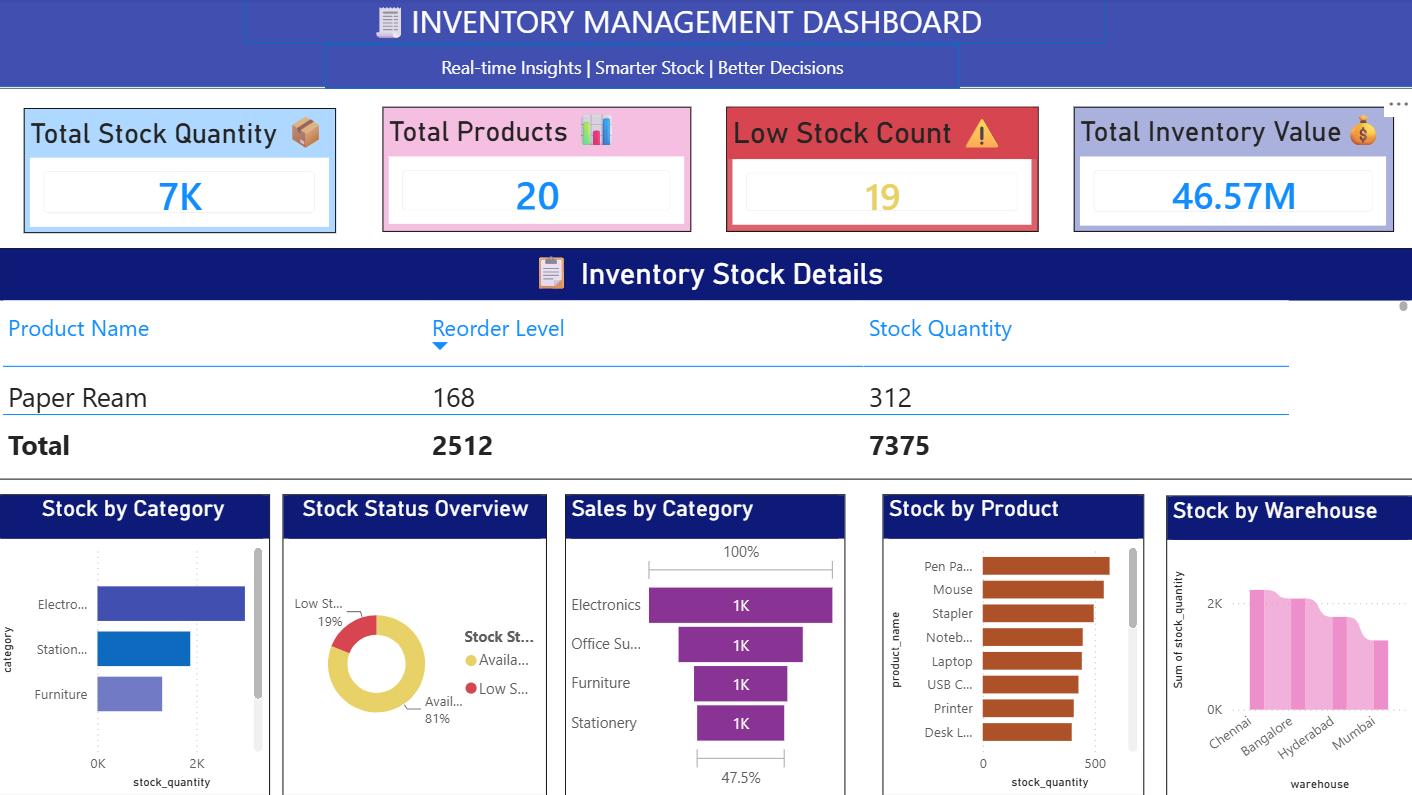

Layout of this report page (visuals, bound fields, positions):
{"tool":"powerbi","page":{"name":"Page 1","canvas":[1280,720],"ordinal":0},"visuals":[{"type":"cardVisual","title":"Total Stock Quantity 📦","fields":{"Data":["Sum(public inventory.stock_quantity)"]},"box":[26.1,98.9,281.2,113],"z":0},{"type":"cardVisual","title":"Total Inventory Value💰","fields":{"Data":["public inventory.Total Inventory Value"]},"box":[972.7,97.7,288.8,113],"z":1000},{"type":"barChart","title":"Stock by Category","fields":{"Category":["public inventory.category"],"Y":["Sum(public inventory.stock_quantity)"]},"box":[0,447.7,247.7,272.1],"z":2000},{"type":"ribbonChart","title":" Stock by Warehouse","fields":{"Category":["public inventory.warehouse"],"Y":["Sum(public inventory.stock_quantity)"]},"box":[1055.7,448.9,223.3,272.1],"z":3000},{"type":"tableEx","title":" 📋 Inventory Stock Details ","fields":{"Values":["public inventory.product_name","Sum(public inventory.reorder_level)","Sum(public inventory.stock_quantity)"]},"box":[0,225,1280.7,209.1],"z":4000},{"type":"cardVisual","title":"Low Stock Count ⚠️","fields":{"Data":["public inventory.Low Stock Count"]},"box":[659.1,97.7,281.8,112.5],"z":5000},{"type":"donutChart","title":" Stock Status Overview","fields":{"Category":["public inventory.Stock Status"],"Y":["CountNonNull(public inventory.product_name)"]},"box":[259.3,447.7,238.4,272.1],"z":6000},{"type":"cardVisual","title":"Total Products 📊","fields":{"Data":["Count(public inventory.product_id)"]},"box":[348.9,97.7,278.4,112.5],"z":7000},{"type":"funnel","title":"Sales by Category","fields":{"Category":["public inventory.category"],"Y":["Sum(public inventory.sales_quantity)"]},"box":[514,447.7,252.5,272.5],"z":8000},{"type":"barChart","title":"Stock by Product","fields":{"Category":["public inventory.product_name"],"Y":["Sum(public inventory.stock_quantity)"]},"box":[800,447.7,236,272.1],"z":9000},{"type":"shape","box":[0,0,1280,81.2],"z":10000},{"type":"shape","box":[225,0,776.2,41.2],"z":11000},{"type":"shape","box":[297.5,41.2,572.5,40],"z":12000}]}

Visuals, with their boxes in screenshot pixels (x1, y1, x2, y2), scaled from the page's 1280x720 canvas onto the 1412x795 screenshot:
"Total Stock Quantity 📦" cardVisual: l=29, t=109, r=339, b=234
"Total Inventory Value💰" cardVisual: l=1073, t=108, r=1392, b=233
"Stock by Category" barChart: l=0, t=494, r=273, b=794
" Stock by Warehouse" ribbonChart: l=1165, t=496, r=1411, b=794
" 📋 Inventory Stock Details " tableEx: l=0, t=248, r=1411, b=479
"Low Stock Count ⚠️" cardVisual: l=727, t=108, r=1038, b=232
" Stock Status Overview" donutChart: l=286, t=494, r=549, b=794
"Total Products 📊" cardVisual: l=385, t=108, r=692, b=232
"Sales by Category" funnel: l=567, t=494, r=846, b=794
"Stock by Product" barChart: l=882, t=494, r=1143, b=794
shape: l=0, t=0, r=1411, b=90
shape: l=248, t=0, r=1104, b=45
shape: l=328, t=45, r=960, b=90
